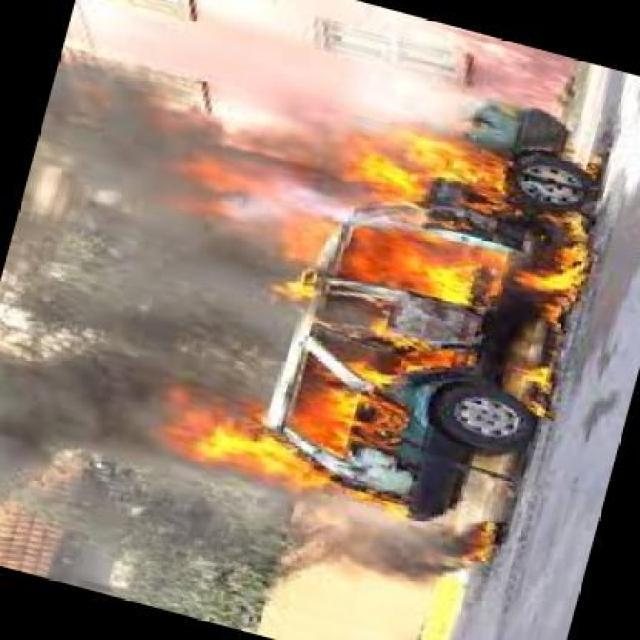Fire: (208, 110, 582, 514)
Smoke: (32, 95, 202, 557), (292, 501, 484, 593), (227, 74, 322, 240)
